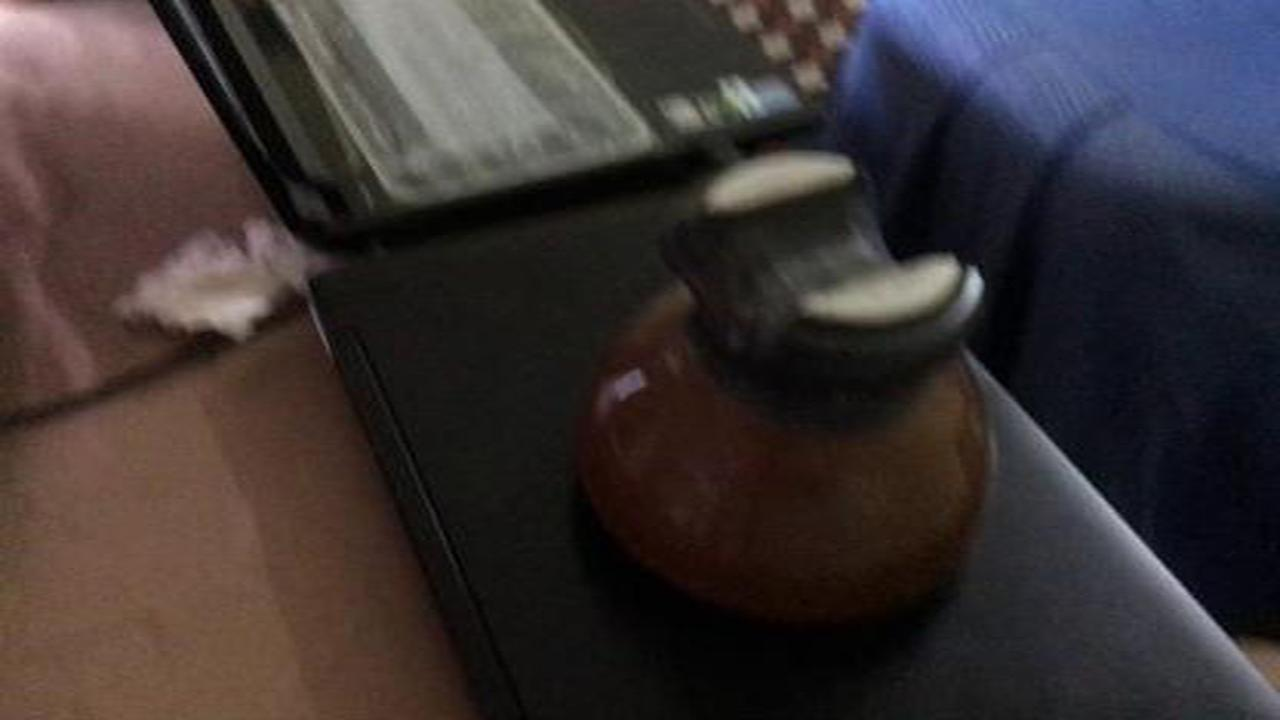insulator_pin: (554, 122, 1050, 663)
